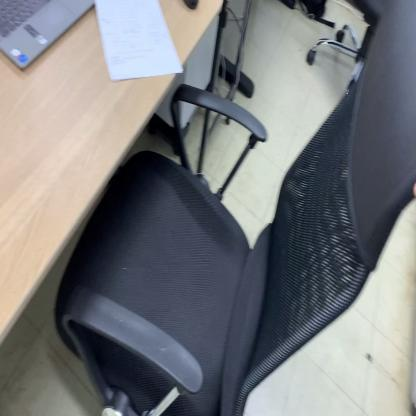chair: (53, 6, 416, 416), (306, 1, 416, 97)
